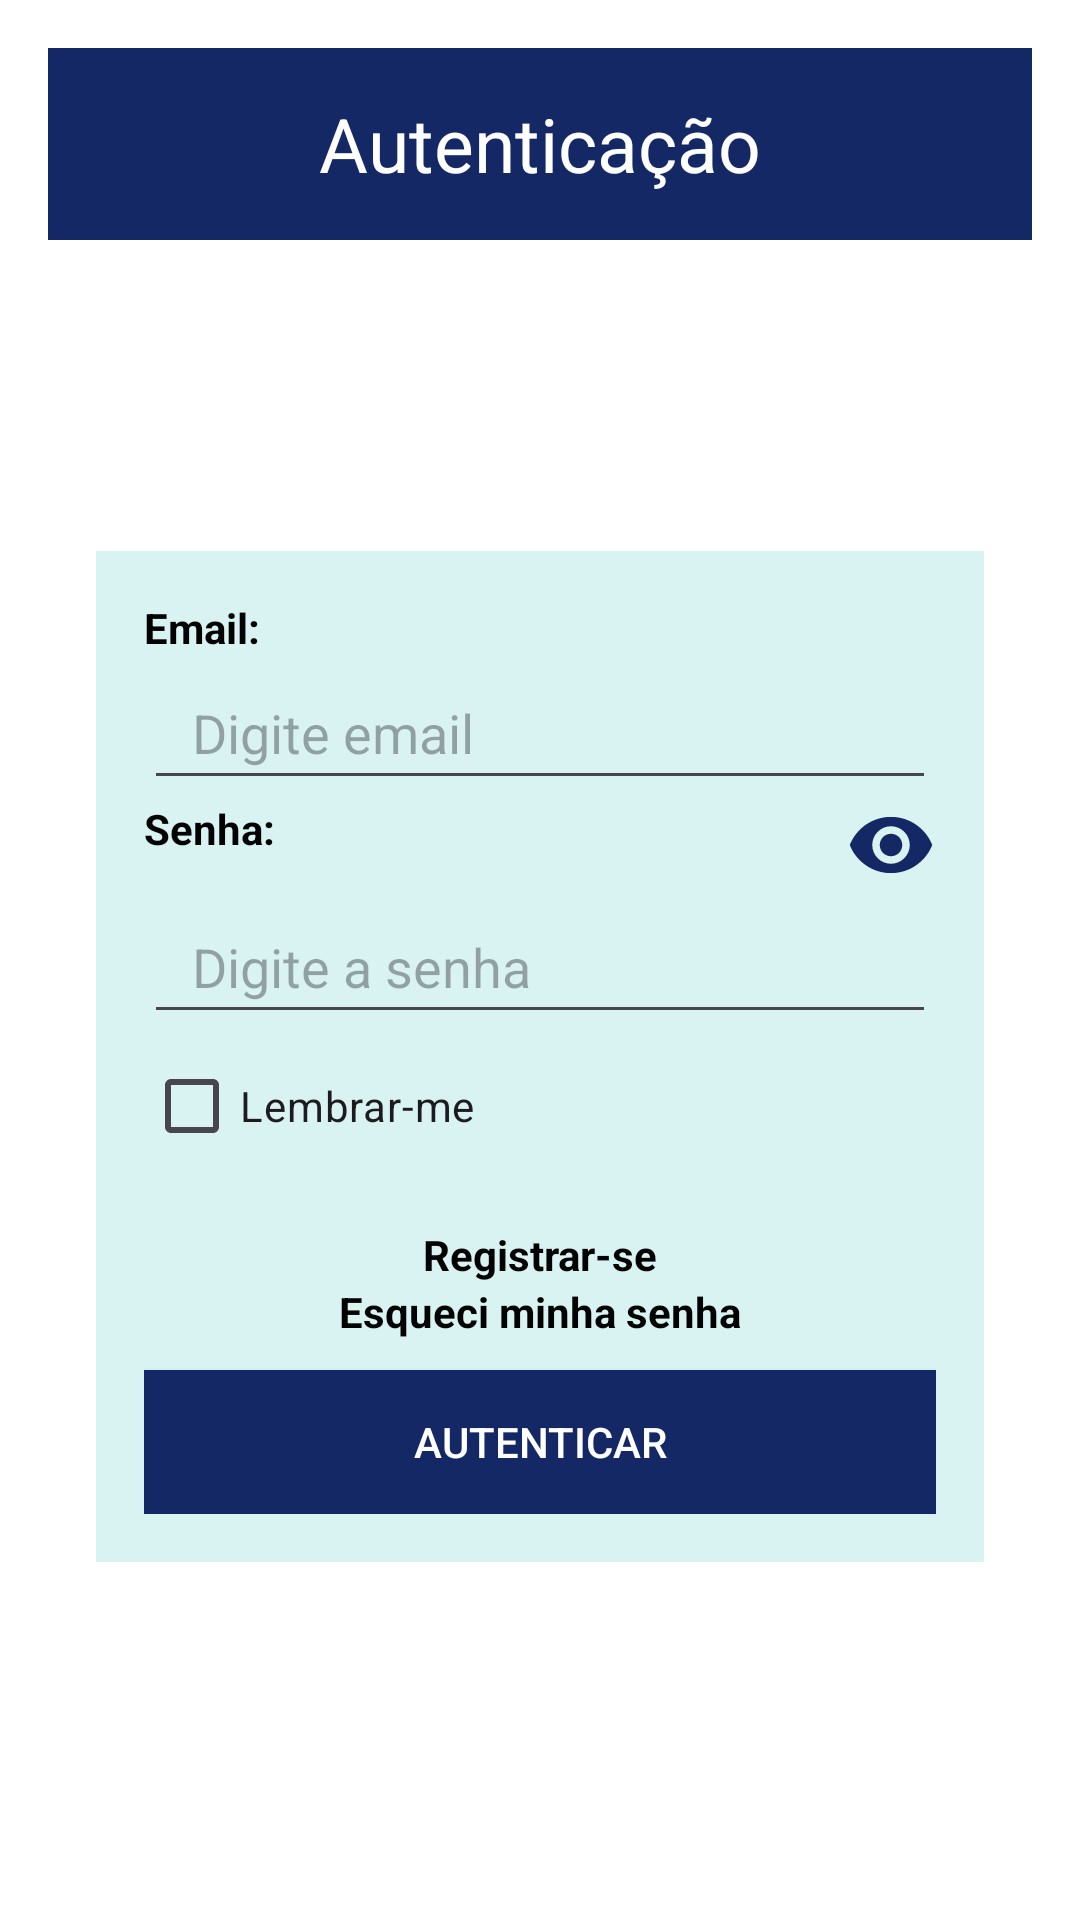

Screen size 1080 x 1920. Icon name, then its center in pixels as (x,y):
visibility: (891,845)
